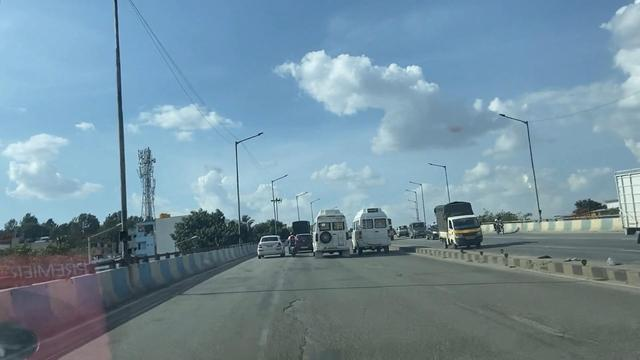HMV: (351, 200, 401, 261), (310, 209, 352, 257)
LMV: (253, 236, 290, 261), (286, 233, 303, 260)
RoadDamages: (267, 285, 354, 360)
